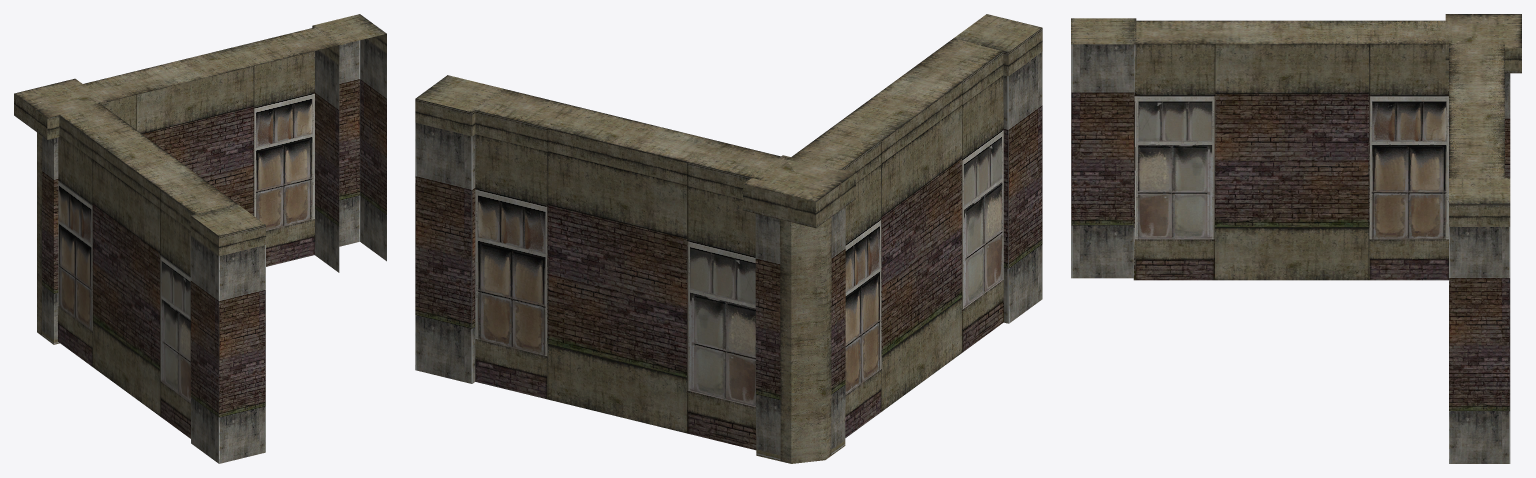
File: Corner_Building_Part_04_Tile.fbx
The picture shows the model from 3 angles, left to right: view 1: azimuth 30°, elevation 25°; view 2: azimuth 150°, elevation 25°; view 3: azimuth 270°, elevation 25°; orthographic projection. The views are drawn at different scales.
Parts seen in each view (by area): view 1: Corner_Building_Part_04_Tile; view 2: Corner_Building_Part_04_Tile; view 3: Corner_Building_Part_04_Tile.
Boxes of the visible parts, <box> form: Corner_Building_Part_04_Tile: <box>14,14,386,463</box>; Corner_Building_Part_04_Tile: <box>415,14,1042,463</box>; Corner_Building_Part_04_Tile: <box>1071,14,1521,463</box>.
Bounding box in the file's own units: 716 × 461 × 718.
